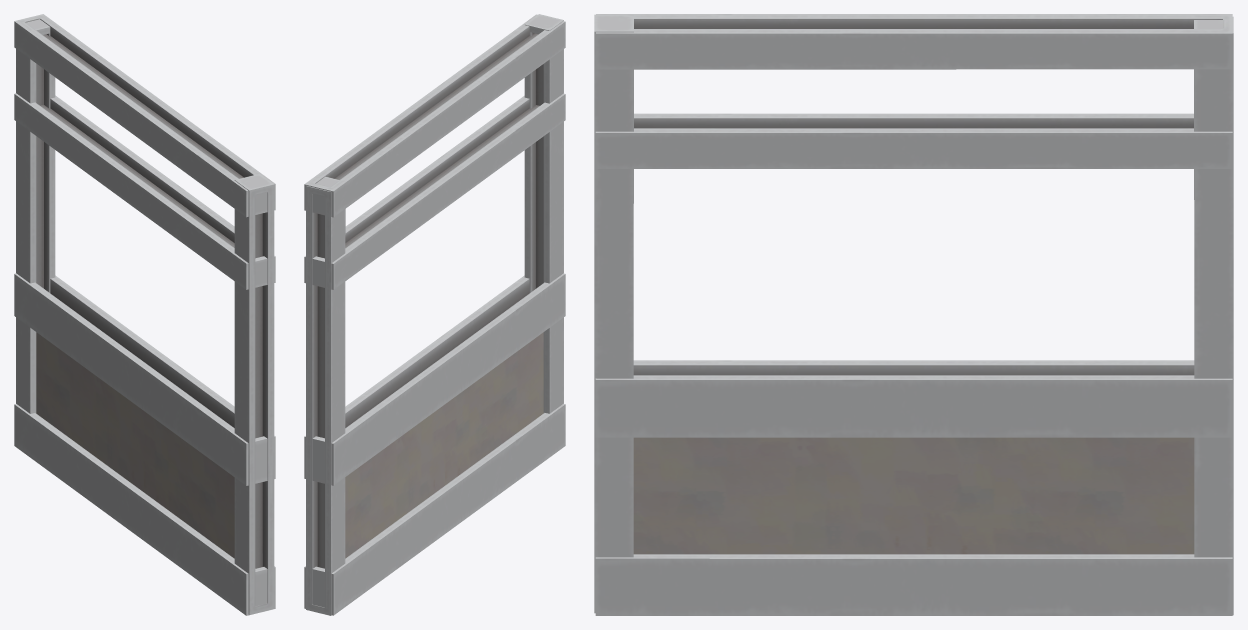
Rendered from Pfb_GlassWall.fbx.
The picture shows the model from 3 angles, left to right: view 1: azimuth 30°, elevation 25°; view 2: azimuth 150°, elevation 25°; view 3: azimuth 270°, elevation 25°; orthographic projection. The views are drawn at different scales.
Visible parts, largest first — view 1: Mat_SteelFrame_01 7, Mat_Tile_Color_07 3; view 2: Mat_SteelFrame_01 7, Mat_Tile_Color_07 3; view 3: Mat_SteelFrame_01 7, Mat_Tile_Color_07 3.
Boxes of the visible parts, x1,y1,x2,y2 form: Mat_SteelFrame_01 7: (14,14,275,615); Mat_Tile_Color_07 3: (36,332,234,558); Mat_SteelFrame_01 7: (304,14,565,615); Mat_Tile_Color_07 3: (345,332,543,558); Mat_SteelFrame_01 7: (594,14,1233,615); Mat_Tile_Color_07 3: (633,437,1194,554).
Size of the model in its own units: 0.2893 by 4.01 by 3.98.
Materials: 2 (2 with a texture image).
